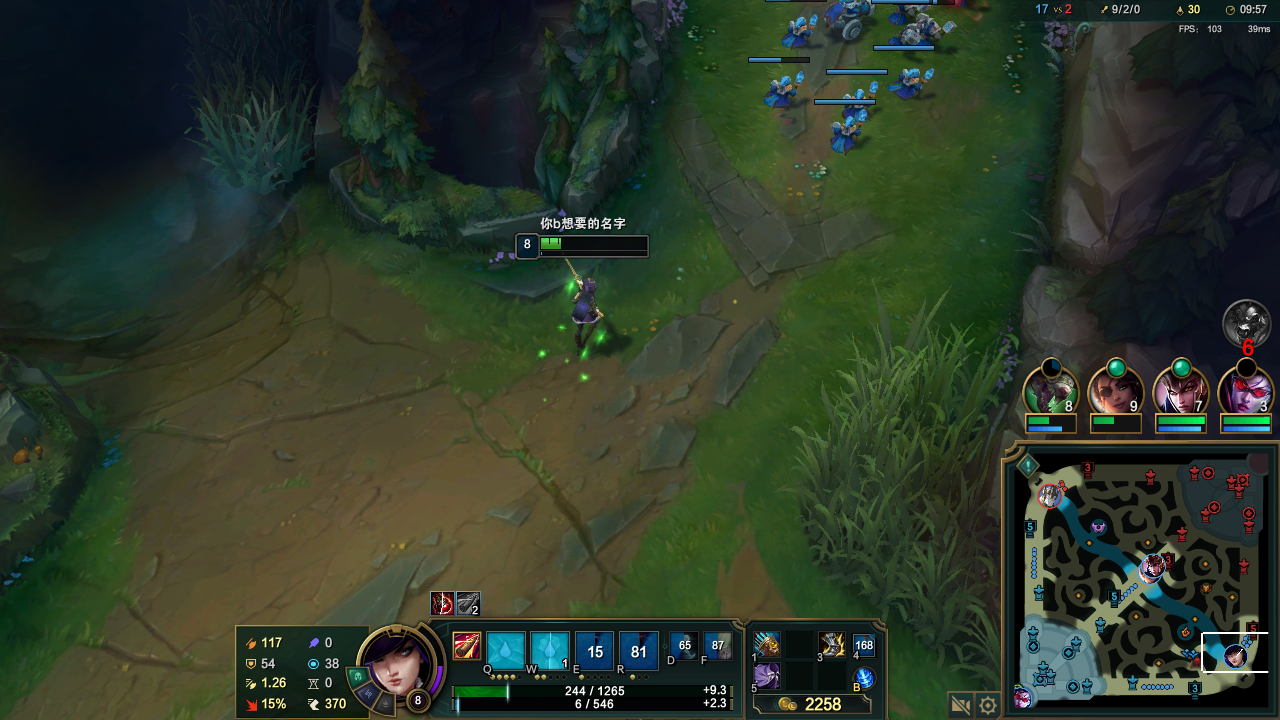WFXB: (763, 70, 801, 104), (832, 114, 861, 153), (829, 8, 866, 34), (892, 67, 923, 95), (918, 13, 946, 44), (838, 85, 871, 111), (897, 21, 922, 47), (789, 14, 813, 39)
